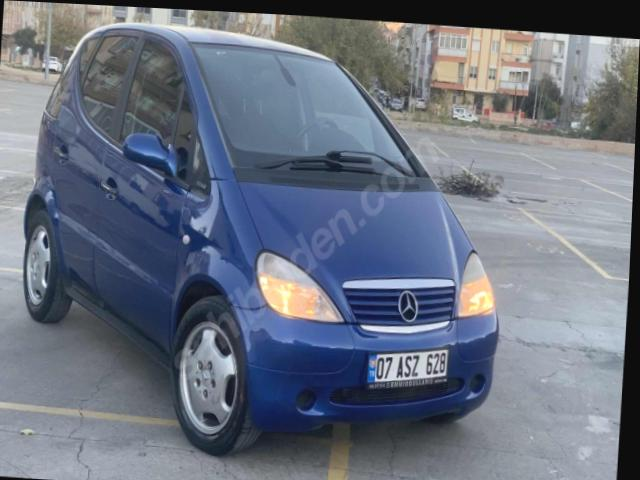plaka: (367, 348, 448, 388)
